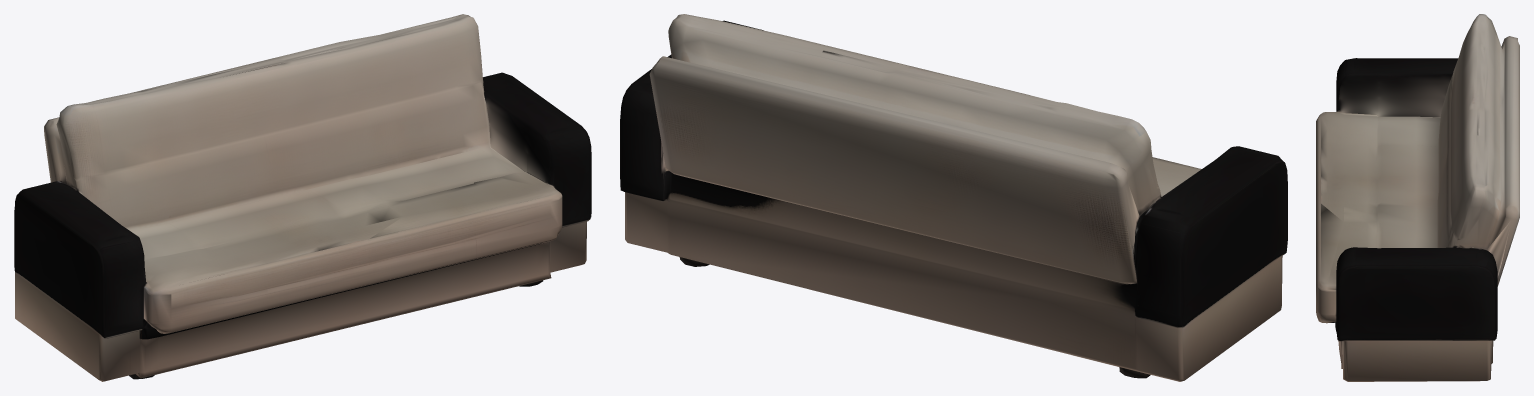
File: Koltuk002.fbx
The picture shows the model from 3 angles, left to right: view 1: azimuth 30°, elevation 25°; view 2: azimuth 150°, elevation 25°; view 3: azimuth 270°, elevation 25°; orthographic projection. The views are drawn at different scales.
Parts seen in each view (by area): view 1: texture_pbr_v128; view 2: texture_pbr_v128; view 3: texture_pbr_v128.
Boxes of the visible parts, <box> form: texture_pbr_v128: <box>14,14,591,381</box>; texture_pbr_v128: <box>620,14,1287,381</box>; texture_pbr_v128: <box>1316,14,1519,381</box>.
Bounding box in the file's own units: 108 × 46.39 × 44.69.
Materials: 1 (1 with a texture image).
